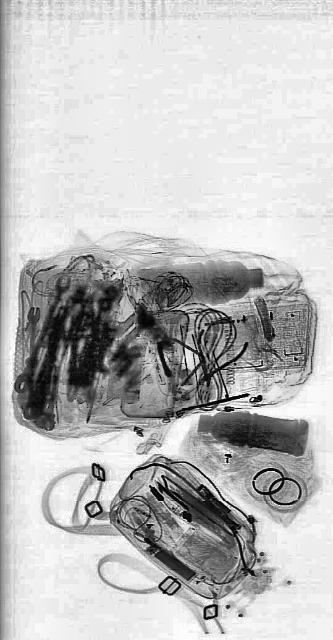Pliers: (190, 310, 248, 408)
Wrench: (11, 268, 71, 398), (23, 306, 39, 418)
